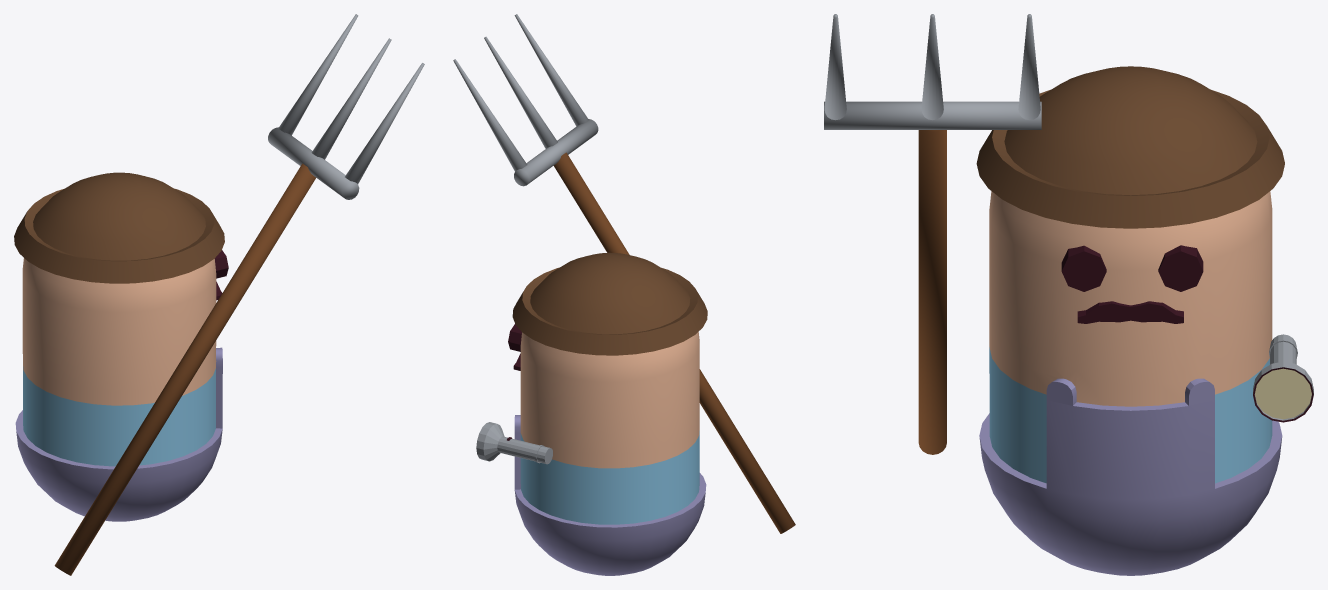
File: Farmer_1.fbx
The picture shows the model from 3 angles, left to right: view 1: azimuth 30°, elevation 25°; view 2: azimuth 150°, elevation 25°; view 3: azimuth 270°, elevation 25°; orthographic projection. The views are drawn at different scales.
Visible parts, largest first — view 1: Farmer_1, Farmer_Tool_1; view 2: Farmer_1, Farmer_Tool_1, Light; view 3: Farmer_1, Farmer_Tool_1, Light.
Part boxes in pixels (x1,y1,x2,y2): Farmer_1: [14, 172, 228, 521]; Farmer_Tool_1: [54, 14, 424, 575]; Farmer_1: [508, 252, 707, 575]; Farmer_Tool_1: [453, 14, 795, 533]; Light: [476, 422, 552, 464]; Farmer_1: [976, 66, 1284, 575]; Farmer_Tool_1: [824, 14, 1041, 454]; Light: [1253, 334, 1313, 422].
Bounding box in the file's own units: 213 × 288 × 185.
